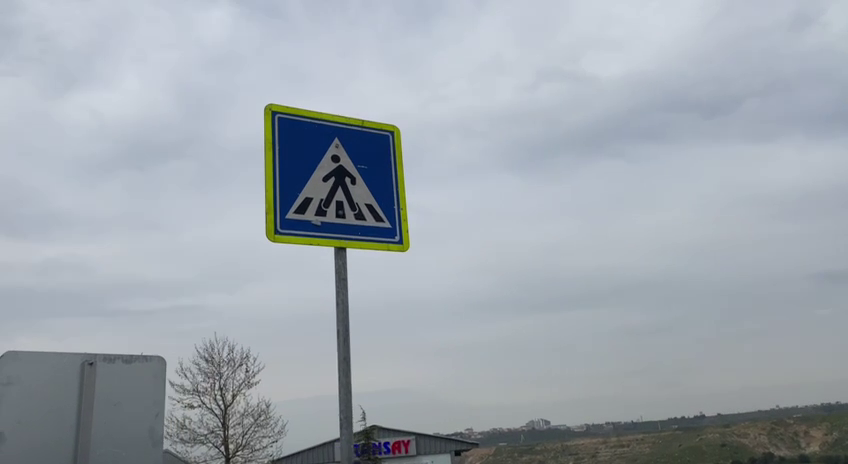pedestrianCrossing: (262, 100, 414, 256)
